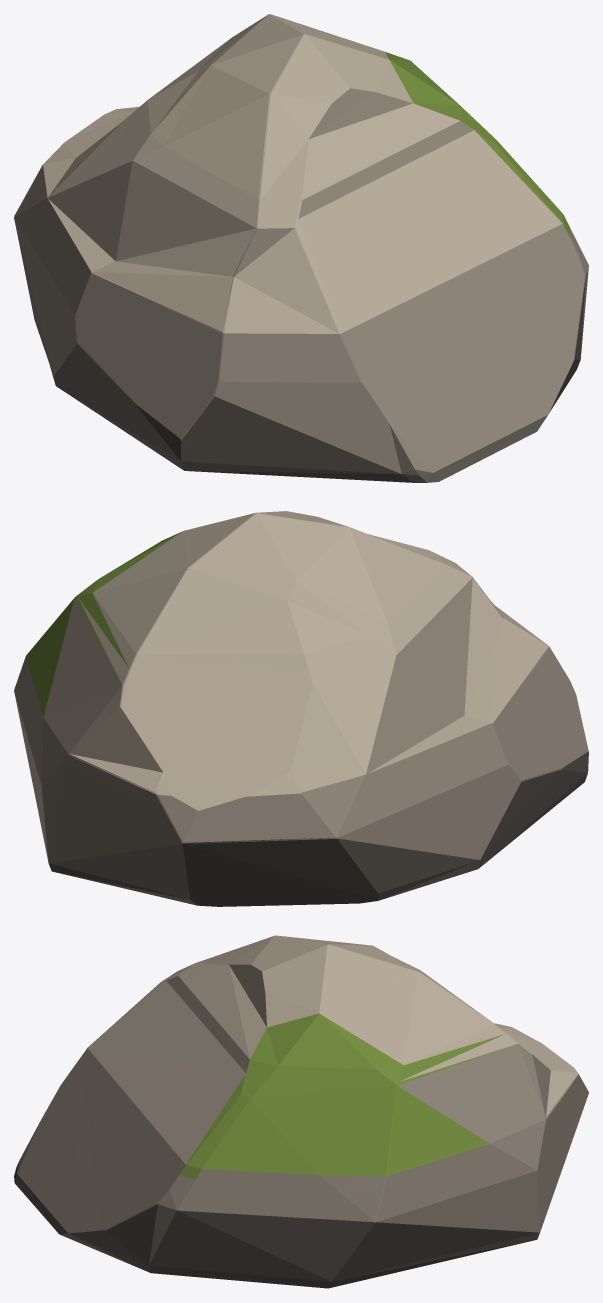
3 renders of one model, top to bottom at view 1: azimuth 30°, elevation 25°; view 2: azimuth 150°, elevation 25°; view 3: azimuth 270°, elevation 25°, orthographic. The views are drawn at different scales.
Visible parts, largest first — view 1: rock; view 2: rock; view 3: rock.
Part boxes in pixels (x1,y1,x2,y2): rock: (14, 14, 588, 482); rock: (14, 511, 588, 906); rock: (14, 935, 588, 1288).
Bounding box in the file's own units: 0.65 × 0.4 × 0.8.
